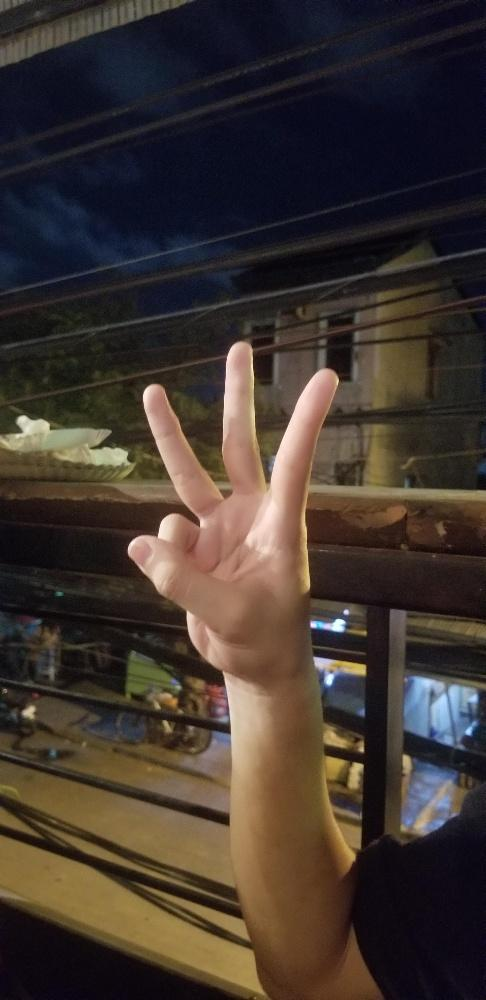w: (123, 335, 343, 685)
